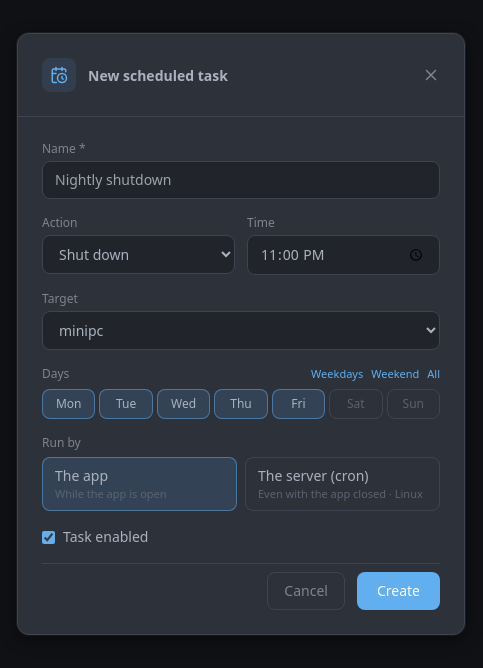
it: lot opérations en anglais › formulaire de tâche planifiée
Check: the heading "New scheduled task" is shown, box [88,64,228,86]
# Validation : nom requis
Click the button "Create" at [398, 591], box [357,572,440,610]
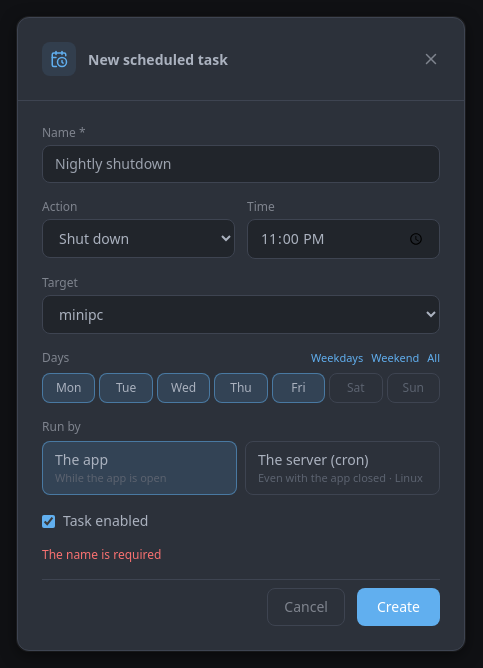
Check: the text "The name is required" is shown, box [42,546,161,563]
